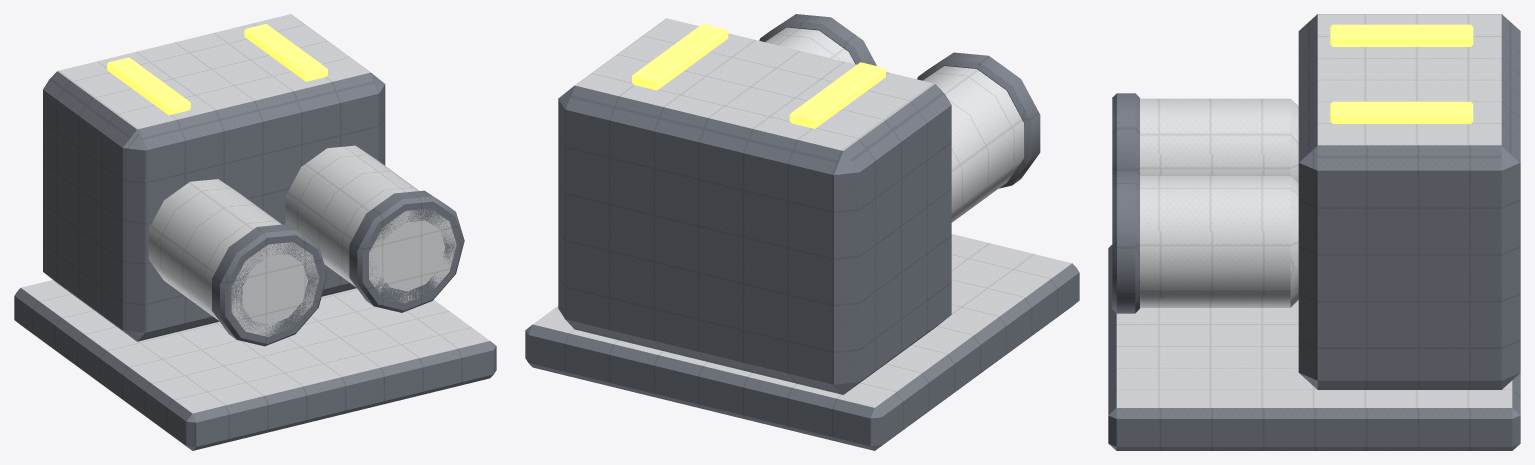
File: R4X_DoubleShotPassive_LOD1.glb
3 renders of one model, left to right at view 1: azimuth 30°, elevation 25°; view 2: azimuth 150°, elevation 25°; view 3: azimuth 270°, elevation 25°, orthographic. The views are drawn at different scales.
Parts seen in each view (by area): view 1: R4X_DoubleShotPassive_LOD1; view 2: R4X_DoubleShotPassive_LOD1; view 3: R4X_DoubleShotPassive_LOD1.
Part boxes in pixels (box(x1,y1,x2,y2)): R4X_DoubleShotPassive_LOD1: box(14, 14, 496, 450); R4X_DoubleShotPassive_LOD1: box(525, 14, 1079, 450); R4X_DoubleShotPassive_LOD1: box(1108, 14, 1520, 450).
Size of the model in its own units: 0.52 by 0.415 by 0.52.
4 materials, 3 textured.
